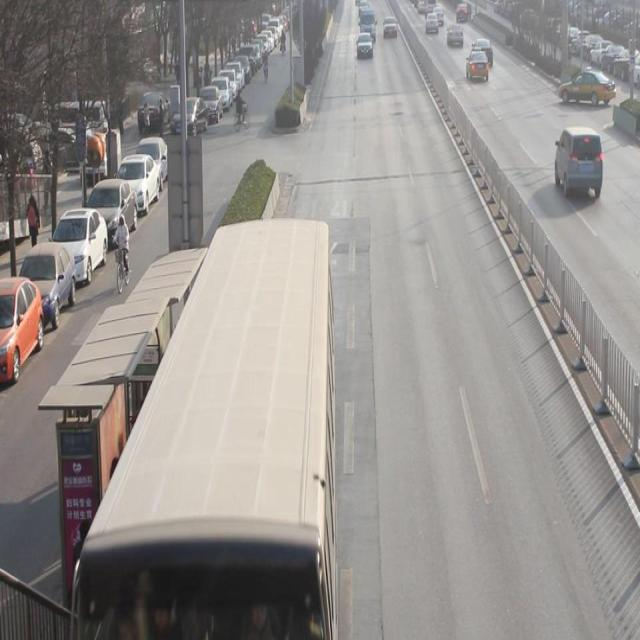bus: (360, 9, 378, 37)
car: (555, 125, 603, 202), (558, 64, 616, 109), (466, 46, 490, 84), (474, 38, 494, 70), (447, 21, 464, 51), (357, 33, 374, 62), (457, 1, 472, 24), (383, 16, 397, 39), (434, 1, 445, 29), (425, 12, 438, 34)
van: (75, 218, 334, 625)
